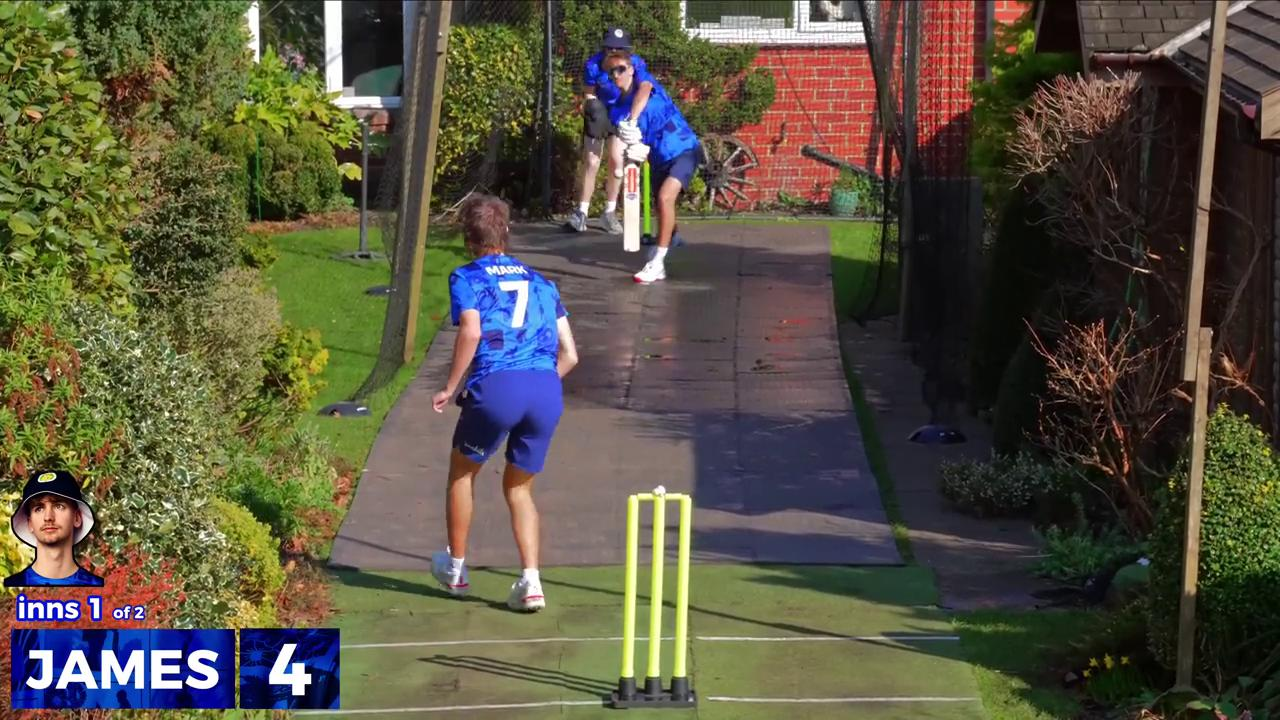ball: (607, 167, 631, 186)
